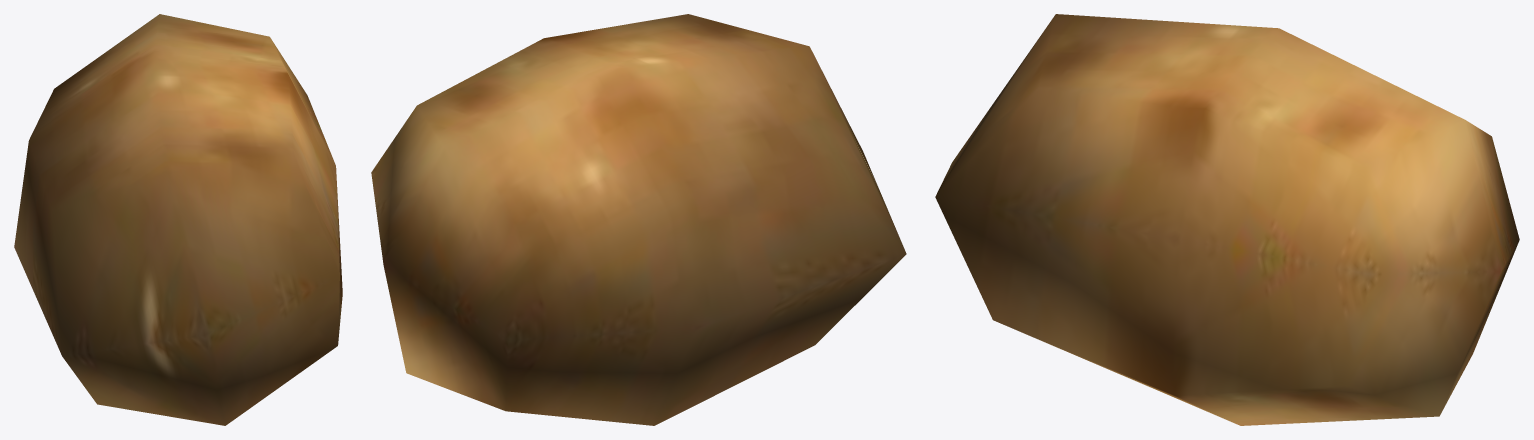
Rendered from SM_potato_00.gltf.
The picture shows the model from 3 angles, left to right: view 1: azimuth 30°, elevation 25°; view 2: azimuth 150°, elevation 25°; view 3: azimuth 270°, elevation 25°; orthographic projection. The views are drawn at different scales.
Parts seen in each view (by area): view 1: SM_potato_00; view 2: SM_potato_00; view 3: SM_potato_00.
Part boxes in pixels (box(x1,y1,x2,y2)): SM_potato_00: box(14, 14, 342, 425); SM_potato_00: box(371, 14, 906, 425); SM_potato_00: box(935, 14, 1519, 425).
Size of the model in its own units: 0.1729 by 0.1368 by 0.1994.
1 material, 1 textured.
